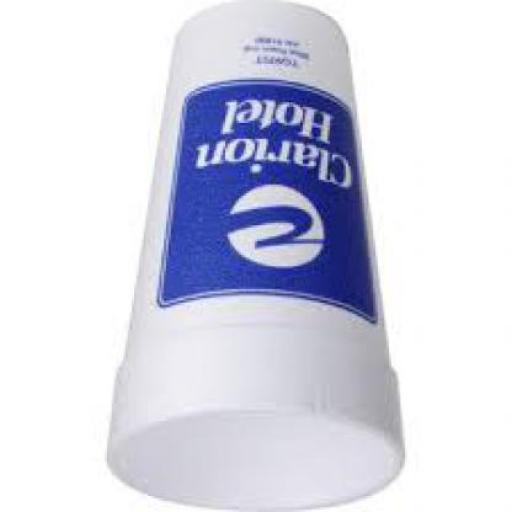paper: (106, 4, 408, 510)
